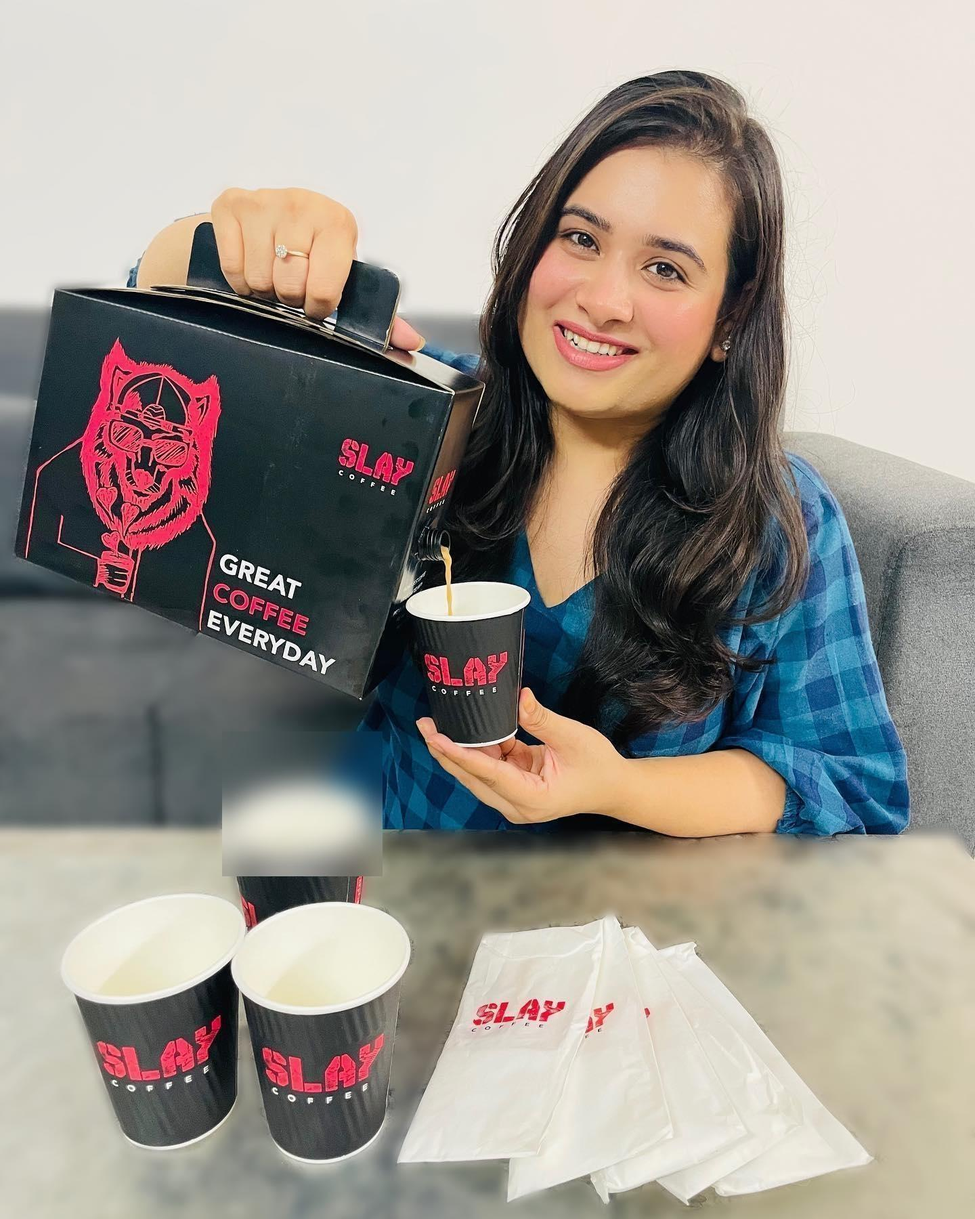cup-disposable: (55, 883, 247, 1159), (232, 897, 420, 1176), (405, 578, 545, 754)
